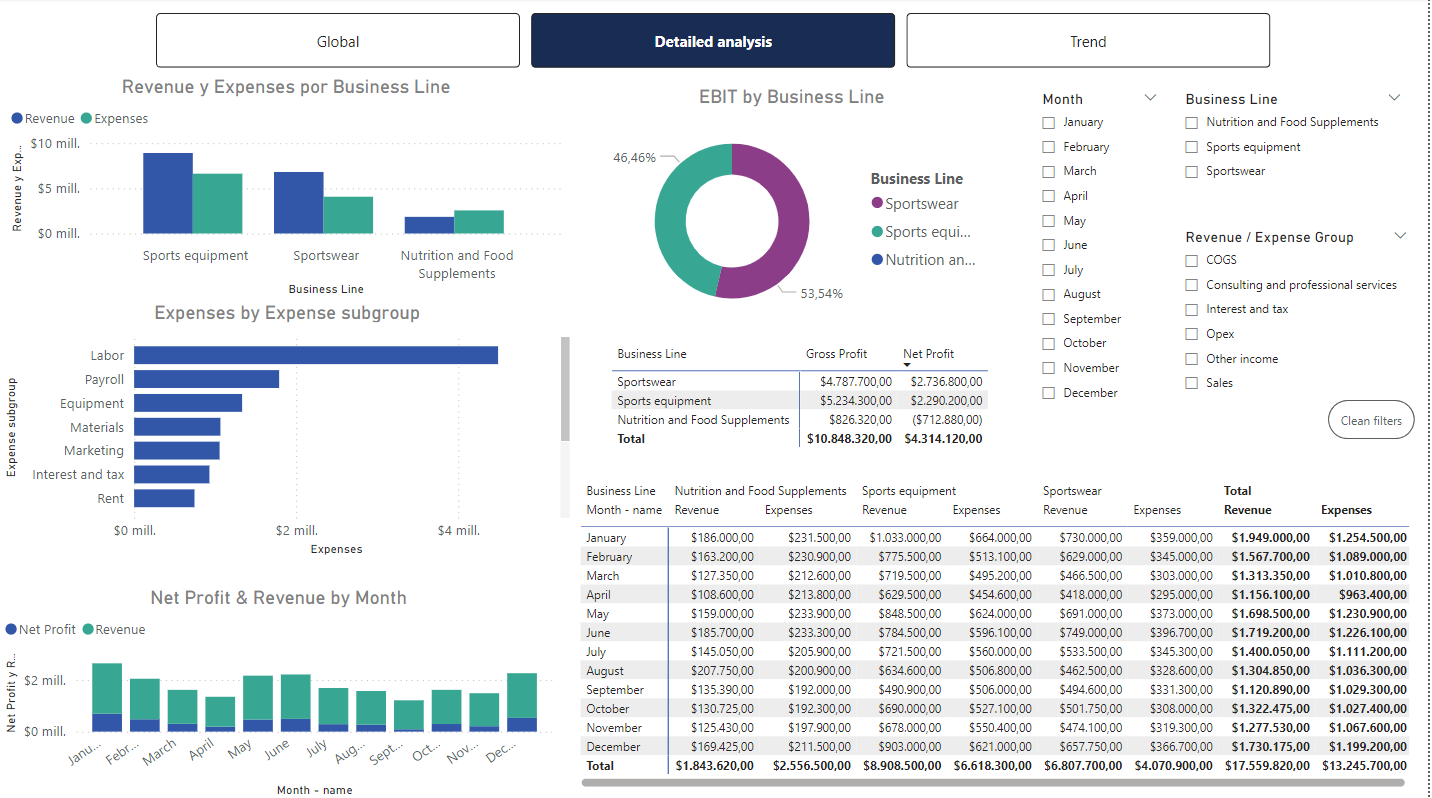

The dashboard page shown, as its layout file describes it:
{"tool":"powerbi","page":{"name":"Detailed analysis","canvas":[1280,720],"ordinal":1},"visuals":[{"type":"barChart","title":"Expenses by Expense subgroup","fields":{"Y":["revenue_expense.Expenses"],"Category":["revenue_expense.Expense subgroup"]},"box":[0,271.2,515.8,232.3],"z":1000},{"type":"columnChart","title":"Net Profit & Revenue by Month","fields":{"Category":["revenue_expense.Month - name"],"Y":["revenue_expense.Net Profit","revenue_expense.Revenue"]},"box":[0,526.2,500.6,193.4],"z":2000},{"type":"pageNavigator","title":"Main navigator","box":[140.6,13.7,1001,49.7],"z":3000},{"type":"slicer","fields":{"Values":["revenue_expense.Business Line"]},"box":[1049.6,77.9,218.5,95.8],"z":3001},{"type":"pivotTable","fields":{"Values":["revenue_expense.Revenue","revenue_expense.Expenses"],"Columns":["revenue_expense.Business Line"],"Rows":["revenue_expense.Month - name"]},"box":[515.8,427.2,752.2,284.8],"z":3002},{"type":"pivotTable","fields":{"Values":["revenue_expense.Gross Profit","revenue_expense.Net Profit"],"Rows":["revenue_expense.Business Line"]},"box":[543.3,304.4,357.5,110.9],"z":3003},{"type":"slicer","fields":{"Values":["revenue_expense.Revenue / Expense Group"]},"box":[1049.6,201.5,223.9,158.5],"z":3004},{"type":"slicer","fields":{"Values":["revenue_expense.Month - name"]},"box":[921.5,77.9,128.1,291.9],"z":3005},{"type":"clusteredColumnChart","fields":{"Category":["revenue_expense.Business Line"],"Y":["revenue_expense.Revenue","revenue_expense.Expenses"]},"box":[5.7,69.2,503.5,202],"z":3006},{"type":"donutChart","title":"EBIT by Business Line","fields":{"Category":["revenue_expense.Business Line"],"Y":["revenue_expense.EBIT"]},"box":[527.2,77.7,365,224.7],"z":3007},{"type":"actionButton","box":[1189.9,360.3,77.7,35.1],"z":3008}]}

Visuals, with their boxes in screenshot pixels (x1, y1, x2, y2), scaled from the page's 1280x720 canvas onto the 1432x798 screenshot:
"Expenses by Expense subgroup" barChart: region(0, 301, 577, 558)
"Net Profit & Revenue by Month" columnChart: region(0, 583, 560, 797)
"Main navigator" pageNavigator: region(157, 15, 1277, 70)
slicer - revenue_expense.Business Line: region(1174, 86, 1419, 193)
pivotTable - revenue_expense.Revenue x revenue_expense.Expenses: region(577, 473, 1419, 789)
pivotTable - revenue_expense.Gross Profit x revenue_expense.Net Profit: region(608, 337, 1008, 460)
slicer - revenue_expense.Revenue / Expense Group: region(1174, 223, 1425, 399)
slicer - revenue_expense.Month - name: region(1031, 86, 1174, 410)
clusteredColumnChart - revenue_expense.Business Line x revenue_expense.Revenue: region(6, 77, 570, 301)
"EBIT by Business Line" donutChart: region(590, 86, 998, 335)
actionButton: region(1331, 399, 1418, 438)
